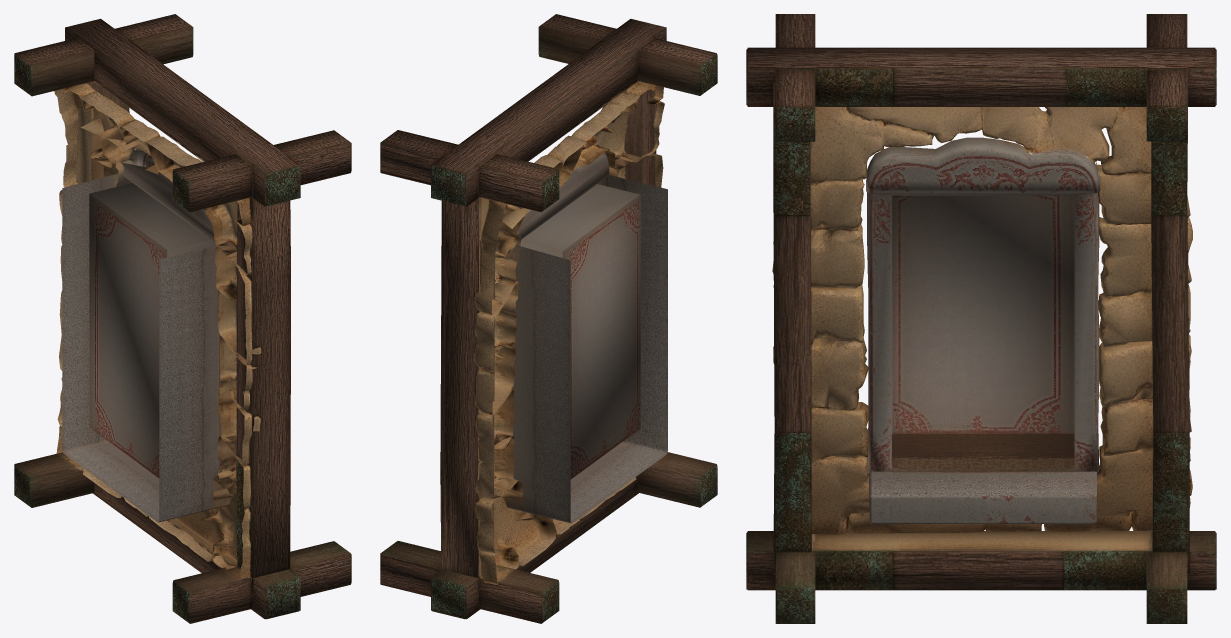
Rendered from tripo_convert_7dbf65ec-6347-4c5e-a3fb-6f5748c86ce8.fbx.
3 renders of one model, left to right at view 1: azimuth 30°, elevation 25°; view 2: azimuth 150°, elevation 25°; view 3: azimuth 270°, elevation 25°, orthographic. The views are drawn at different scales.
Visible parts, largest first — view 1: tripo_node_7dbf65ec; view 2: tripo_node_7dbf65ec; view 3: tripo_node_7dbf65ec.
Boxes of the visible parts, bbox=[...] form: tripo_node_7dbf65ec: bbox=[14, 14, 351, 623]; tripo_node_7dbf65ec: bbox=[380, 14, 717, 623]; tripo_node_7dbf65ec: bbox=[746, 14, 1216, 623].
Size of the model in its own units: 0.3848 by 0.998 by 0.8145.
1 material, 1 textured.
